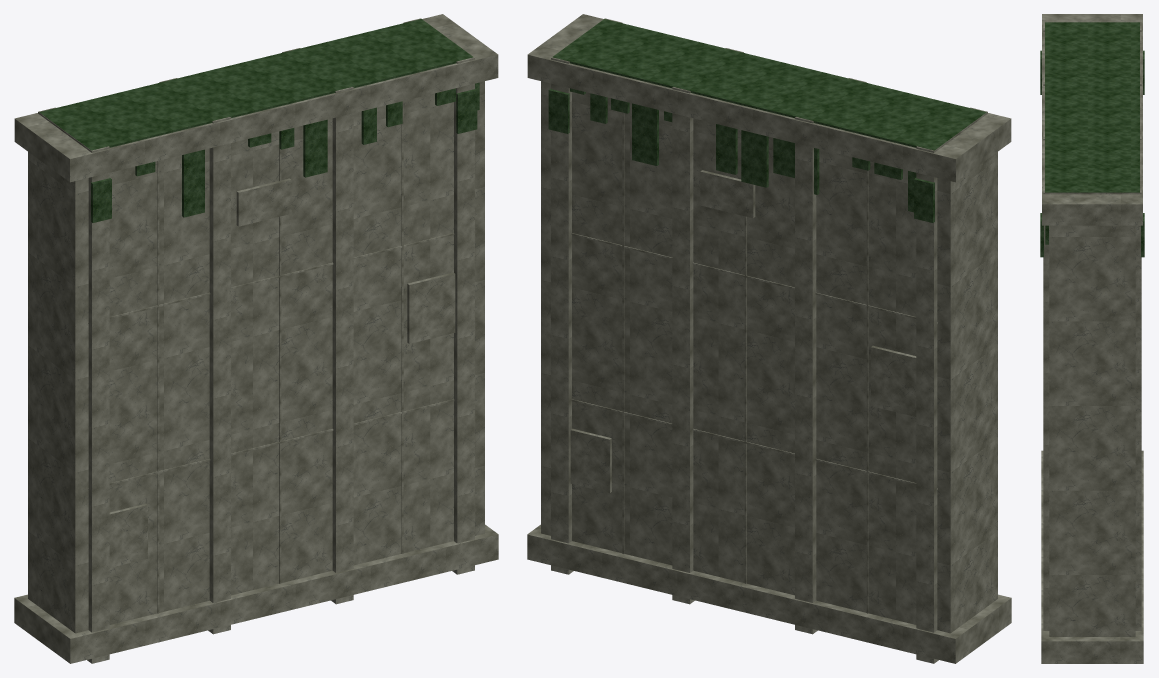
Rendered from maze_wall.obj.
3 views of the same model, side by side, from view 1: azimuth 30°, elevation 25°; view 2: azimuth 150°, elevation 25°; view 3: azimuth 270°, elevation 25° (orthographic). The views are drawn at different scales.
Parts seen in each view (by area): view 1: WallBody, Buttresses, Caps, MossCap, RepairPlates, PanelJoints, Moss_Front, MossPatches; view 2: WallBody, Buttresses, Caps, MossCap, RepairPlates, Moss_Back, PanelJoints, MossPatches; view 3: WallBody, MossCap, Caps, Buttresses, MossPatches.
Part boxes in pixels (x1,y1,x2,y2): WallBody: [28, 81, 484, 633]; Buttresses: [38, 18, 474, 663]; Caps: [14, 14, 498, 663]; MossCap: [39, 19, 473, 150]; RepairPlates: [109, 178, 455, 567]; PanelJoints: [88, 101, 454, 613]; Moss_Front: [135, 82, 479, 217]; MossPatches: [91, 88, 477, 222]; WallBody: [541, 81, 997, 633]; Buttresses: [551, 18, 987, 663]; Caps: [527, 14, 1011, 663]; MossCap: [552, 19, 986, 150]; RepairPlates: [570, 170, 916, 493]; Moss_Back: [570, 88, 916, 212]; PanelJoints: [571, 112, 937, 613]; MossPatches: [548, 88, 934, 222]; WallBody: [1049, 225, 1135, 636]; MossCap: [1045, 22, 1139, 192]; Caps: [1041, 14, 1143, 663]; Buttresses: [1043, 22, 1141, 630]; MossPatches: [1040, 50, 1144, 257].
Bounding box in the file's own units: 12.55 × 14.36 × 2.9.
3 materials, 3 textured.
